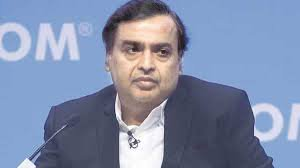noMask: (99, 2, 203, 110)
